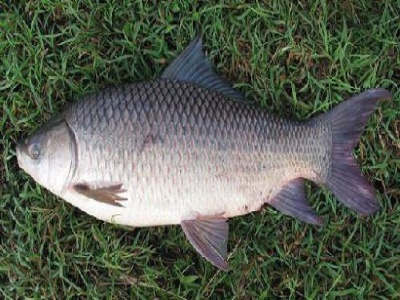rohu: (11, 36, 394, 269)
